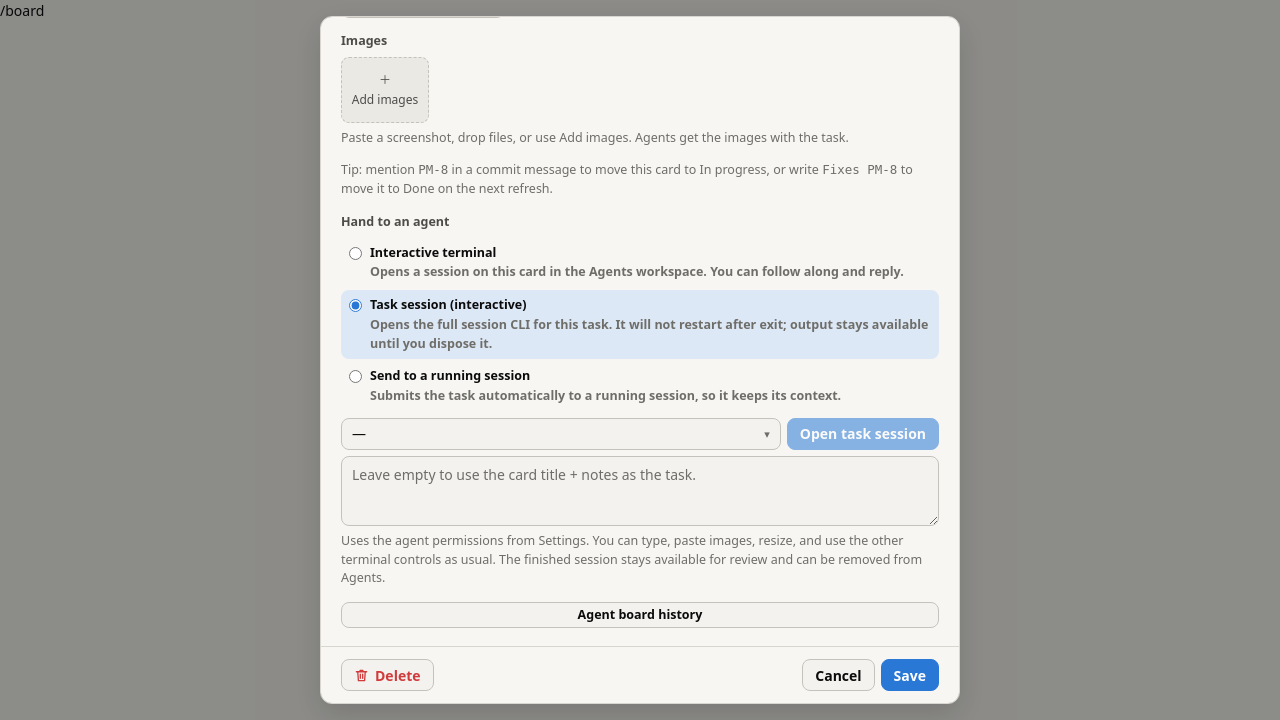
it: keeps the dialog open and shows submission errors for retry
(page scrolled)
Click the radio button labelled "Send to a running session": (356, 377) [349,370,362,383]
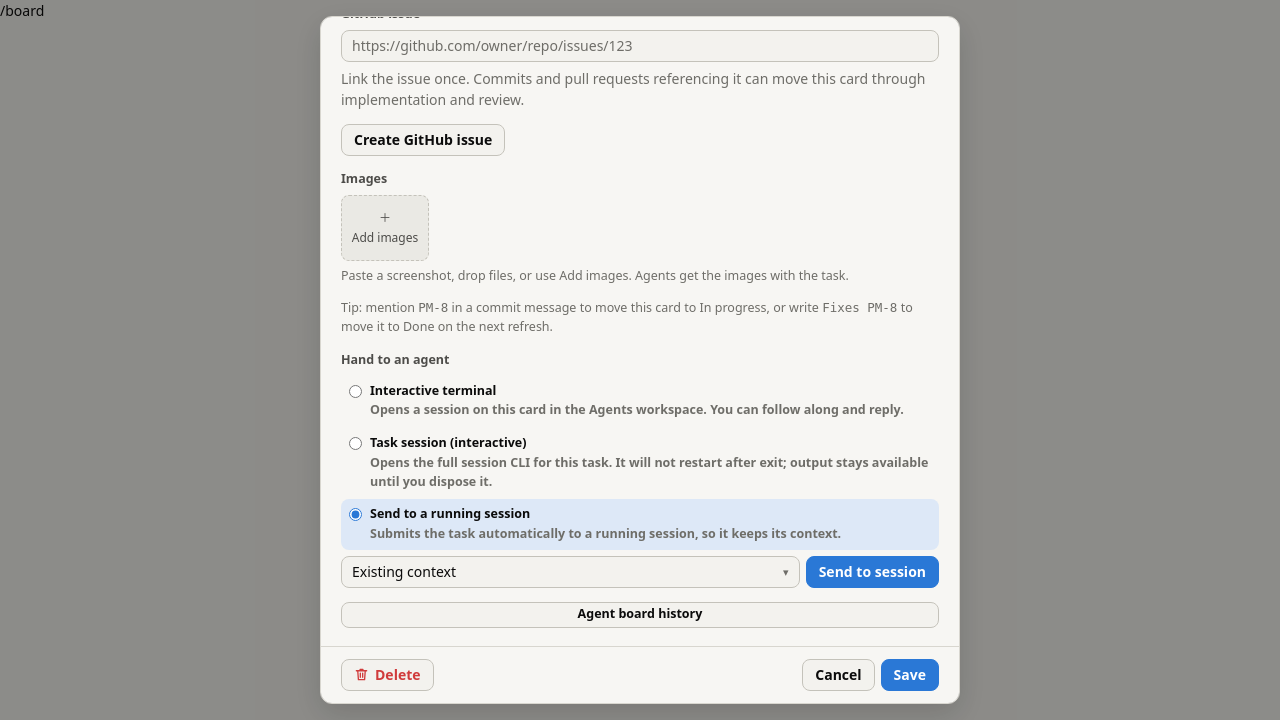
Click the button "Send to session": (872, 572) [806,556,939,588]
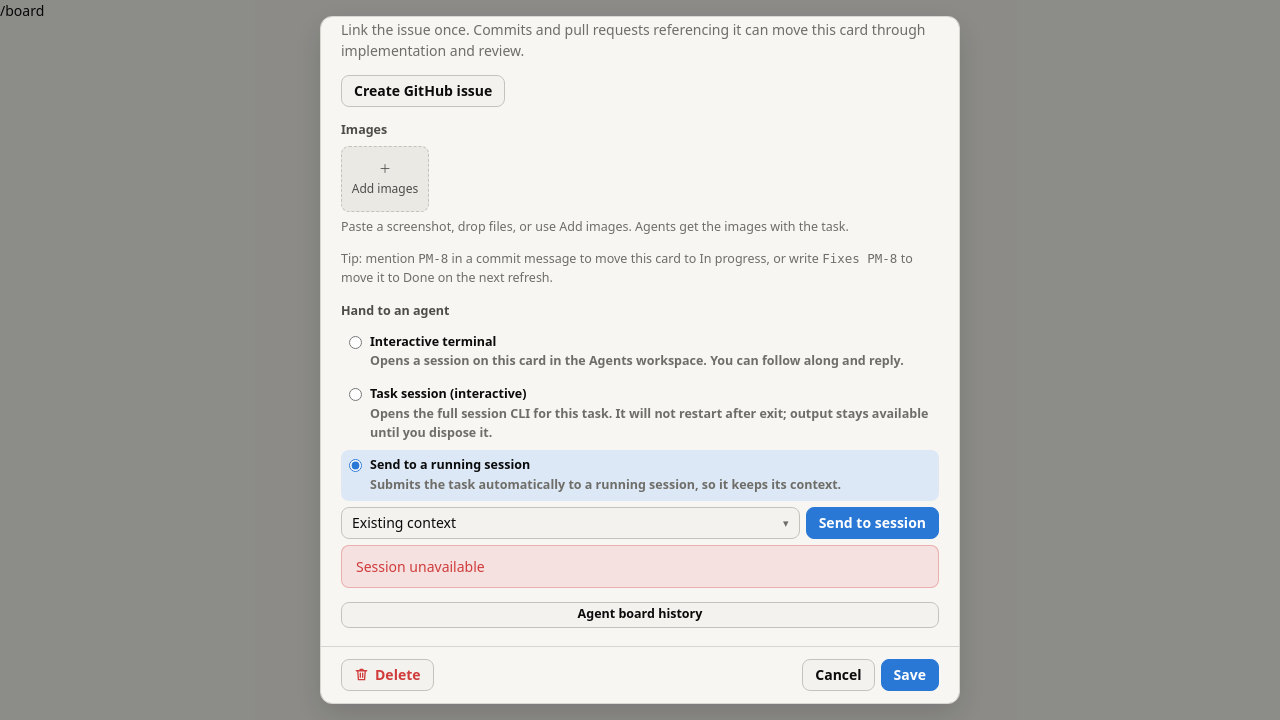
Expected: the text with test id "location" reads "/board", [0,1,44,20]
Now the text "Session unavailable" is shown, box [341,545,939,588]
